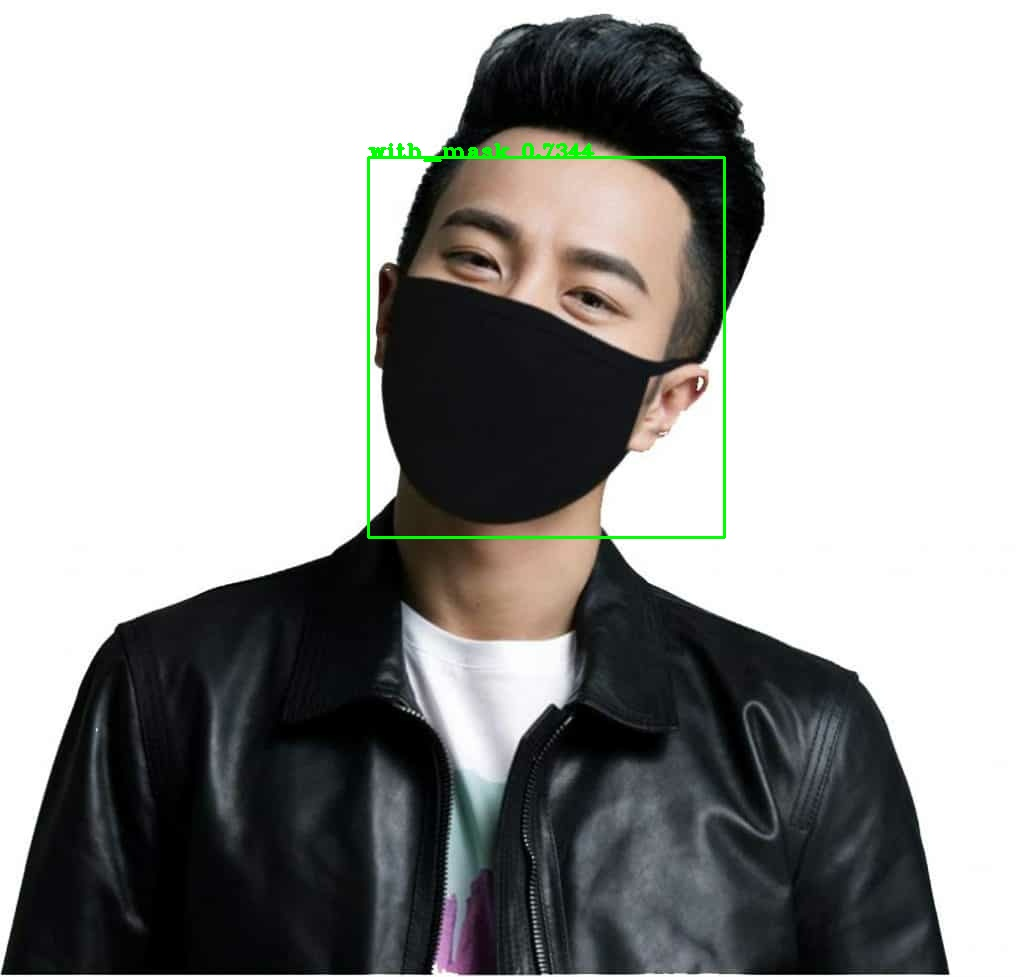with_mask: (362, 113, 712, 535)
